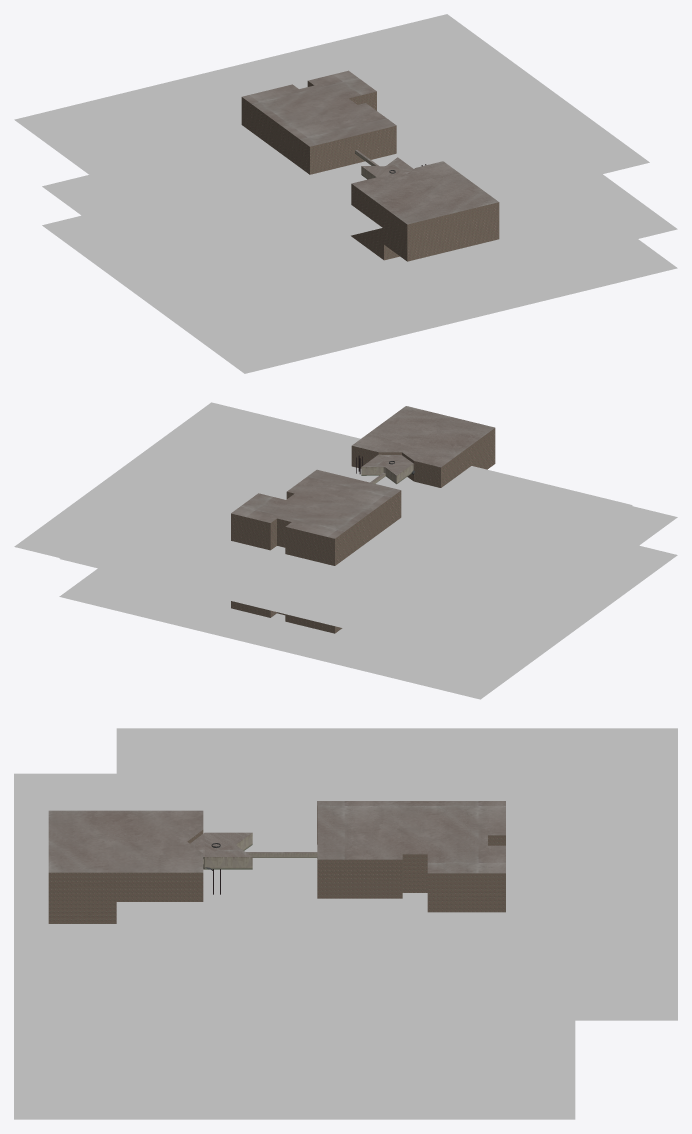
Rendered from control_pannel.fbx.
3 views of the same model, one above another, from view 1: azimuth 30°, elevation 25°; view 2: azimuth 150°, elevation 25°; view 3: azimuth 270°, elevation 25° (orthographic). The views are drawn at different scales.
Parts seen in each view (by area): view 1: E4 IMG, 3 IMG, 1-2 IMG, ceiling, wall Big; view 2: E4 IMG, 1-2 IMG, ceiling, 3 IMG, wall Big, walls; view 3: E4 IMG, 3 IMG, 1-2 IMG, ceiling, wall Big, walls.
Boxes of the visible parts, box(x1,y1,x2,y2) form: E4 IMG: box(14, 14, 649, 268); 3 IMG: box(42, 174, 677, 334); 1-2 IMG: box(42, 215, 677, 373); ceiling: box(242, 70, 498, 224); wall Big: box(241, 81, 499, 261); E4 IMG: box(14, 402, 632, 649); 1-2 IMG: box(59, 545, 677, 699); ceiling: box(231, 406, 494, 538); 3 IMG: box(59, 506, 677, 661); wall Big: box(231, 428, 495, 633); walls: box(361, 455, 413, 484); E4 IMG: box(116, 728, 677, 1020); 3 IMG: box(14, 773, 575, 1065); 1-2 IMG: box(14, 1066, 575, 1119); ceiling: box(48, 801, 505, 873); wall Big: box(48, 806, 505, 923); walls: box(203, 833, 317, 869).
Size of the model in its own units: 40907 by 9636 by 38438.
